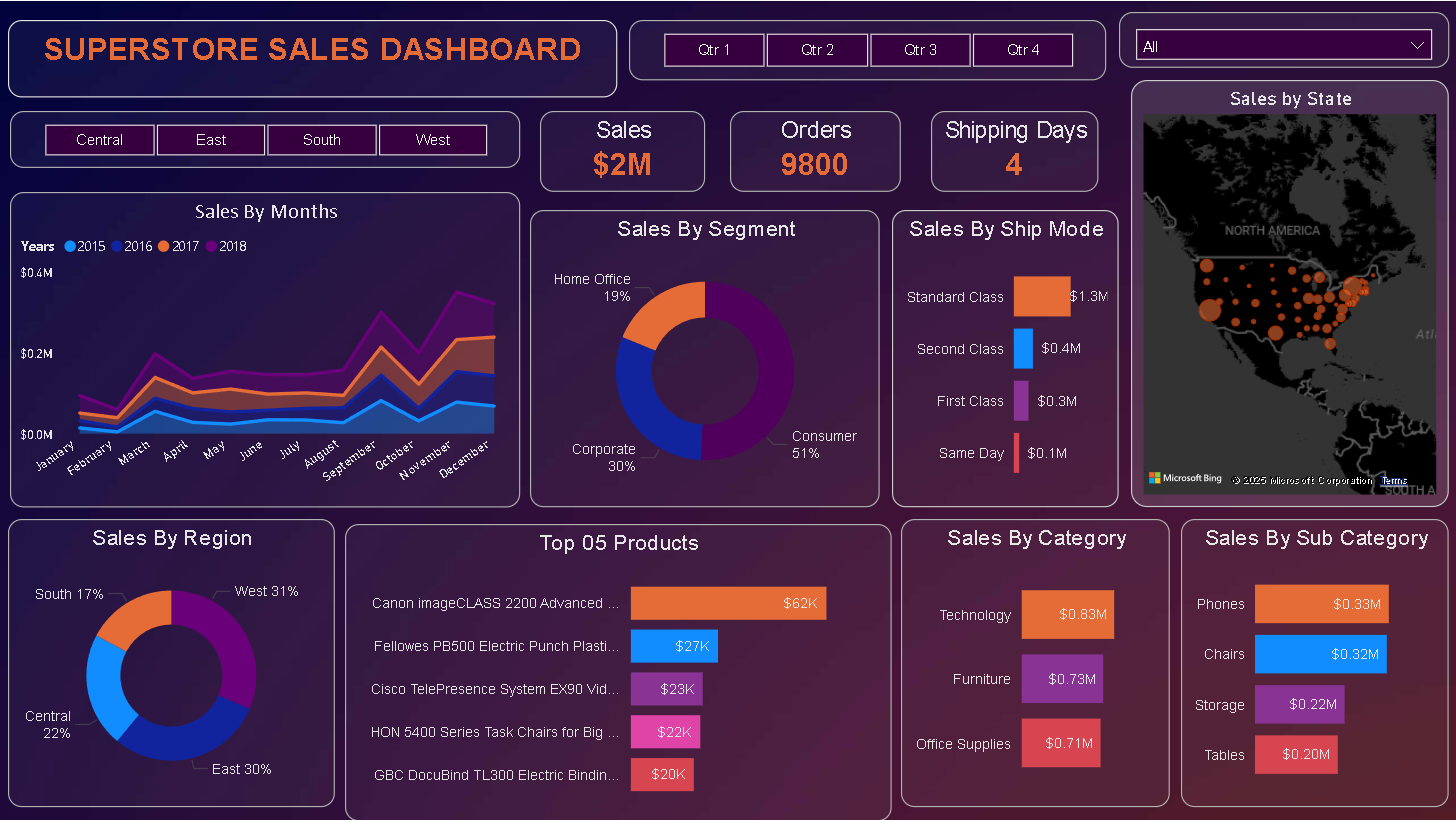

Layout of this report page (visuals, bound fields, positions):
{"tool":"powerbi","page":{"name":"Page 1","canvas":[1280,720],"ordinal":0},"visuals":[{"type":"stackedAreaChart","title":"Sales By Months","fields":{"Y":["Sum(Cleaned_superstore_dataset.Sales)"],"Category":["Cleaned_superstore_dataset.Order_Date.Variation.Date Hierarchy.Month"],"Series":["Cleaned_superstore_dataset.Order_Date.Variation.Date Hierarchy.Year"]},"box":[9.7,167.3,448.4,277.2],"z":0},{"type":"clusteredBarChart","title":"Sales By Category","fields":{"Category":["Cleaned_superstore_dataset.Category"],"Y":["Sum(Cleaned_superstore_dataset.Sales)"]},"box":[791.7,455.2,236.4,252.9],"z":1000},{"type":"clusteredBarChart","title":"Top 05 Products","fields":{"Category":["Cleaned_superstore_dataset.Product_Name"],"Y":["Sum(Cleaned_superstore_dataset.Sales)"]},"box":[303.5,459.1,480.5,260.7],"z":2000},{"type":"map","title":"Sales by State","fields":{"Size":["Sum(Cleaned_superstore_dataset.Sales)"],"Category":["Cleaned_superstore_dataset.State"]},"box":[994,69.1,279.1,375.4],"z":3000},{"type":"donutChart","title":"Sales By Segment","fields":{"Category":["Cleaned_superstore_dataset.Segment"],"Y":["Sum(Cleaned_superstore_dataset.Sales)"]},"box":[465.9,183.8,307.4,260.7],"z":4000},{"type":"clusteredBarChart","title":"Sales By Ship Mode","fields":{"Category":["Cleaned_superstore_dataset.Ship_Mode"],"Y":["Sum(Cleaned_superstore_dataset.Sales)"]},"box":[784,183.8,199.4,260.7],"z":5000},{"type":"clusteredBarChart","title":"Sales By Sub Category","fields":{"Category":["Cleaned_superstore_dataset.Sub_Category"],"Y":["Sum(Cleaned_superstore_dataset.Sales)"]},"box":[1037.8,455.2,235.4,252.9],"z":6000},{"type":"donutChart","title":"Sales By Region","fields":{"Category":["Cleaned_superstore_dataset.Region"],"Y":["Sum(Cleaned_superstore_dataset.Sales)"]},"box":[7.8,455.2,286.9,252.9],"z":7000},{"type":"textbox","box":[7.8,16.5,535,68.1],"z":8000},{"type":"card","title":"Sales","fields":{"Values":["Sum(Cleaned_superstore_dataset.Sales)"]},"box":[474.7,96.3,144.9,71],"z":9000},{"type":"card","title":"Orders","fields":{"Values":["CountNonNull(Cleaned_superstore_dataset.Customer_ID)"]},"box":[641.9,96.3,149.8,71],"z":10000},{"type":"card","title":"Shipping Days","fields":{"Values":["Avg(Cleaned_superstore_dataset.Shipping_Days)"]},"box":[818,96.3,146.9,71],"z":11000},{"type":"slicer","fields":{"Values":["Cleaned_superstore_dataset.Region"]},"box":[9.7,96.3,448.4,49.6],"z":12000},{"type":"slicer","fields":{"Values":["Cleaned_superstore_dataset.State"]},"box":[983.3,9.7,289.8,48.6],"z":13000},{"type":"slicer","fields":{"Values":["Cleaned_superstore_dataset.Order_Date.Variation.Date Hierarchy.Quarter"]},"box":[553.4,16.5,419.2,52.5],"z":14000}]}

Visuals, with their boxes in screenshot pixels (x1, y1, x2, y2), scaled from the page's 1280x720 canvas onto the 1456x820 screenshot:
"Sales By Months" stackedAreaChart: 11,191,521,506
"Sales By Category" clusteredBarChart: 901,518,1169,806
"Top 05 Products" clusteredBarChart: 345,523,892,819
"Sales by State" map: 1131,79,1448,506
"Sales By Segment" donutChart: 530,209,880,506
"Sales By Ship Mode" clusteredBarChart: 892,209,1119,506
"Sales By Sub Category" clusteredBarChart: 1180,518,1448,806
"Sales By Region" donutChart: 9,518,335,806
textbox: 9,19,617,96
"Sales" card: 540,110,705,191
"Orders" card: 730,110,901,191
"Shipping Days" card: 930,110,1098,191
slicer - Cleaned_superstore_dataset.Region: 11,110,521,166
slicer - Cleaned_superstore_dataset.State: 1119,11,1448,66
slicer - Cleaned_superstore_dataset.Order_Date.Variation.Date Hierarchy.Quarter: 629,19,1106,79
